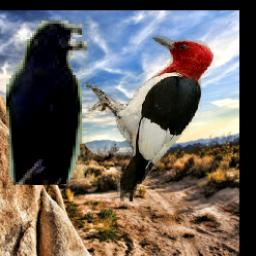Crow: (7, 21, 91, 185)
Woodpecker: (87, 33, 217, 202)
